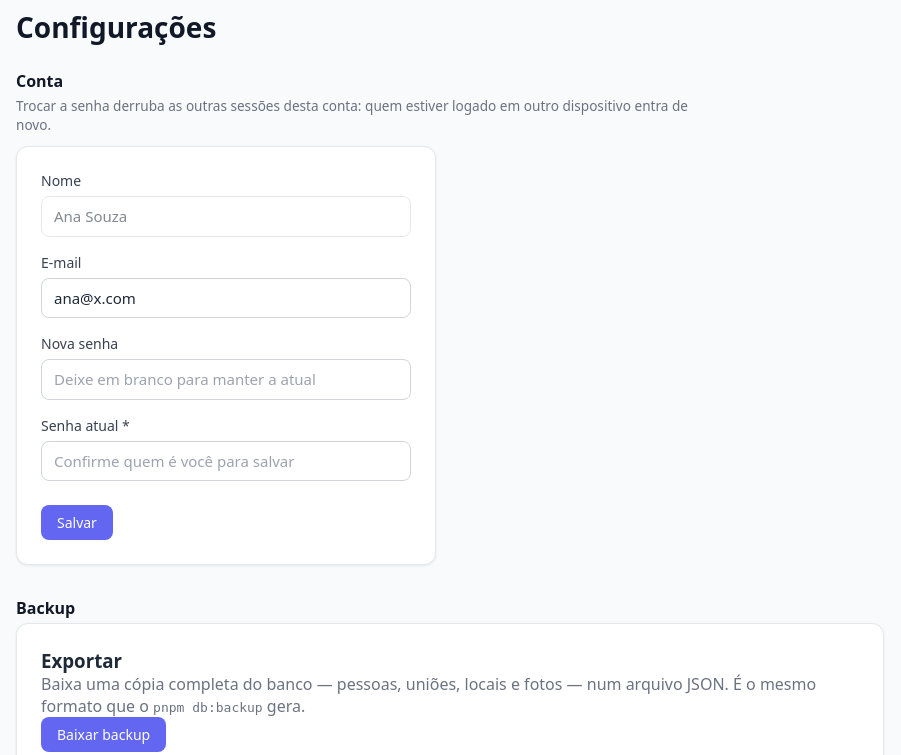
Test: Configurações — conta › senha nova sem confirmação igual não envia nada
expect the field showing "ana@x.com" is shown: met, box [41,278,411,318]
In the password field labelled "Nova senha": (226, 379) [41,359,411,400], type "senhanova123"
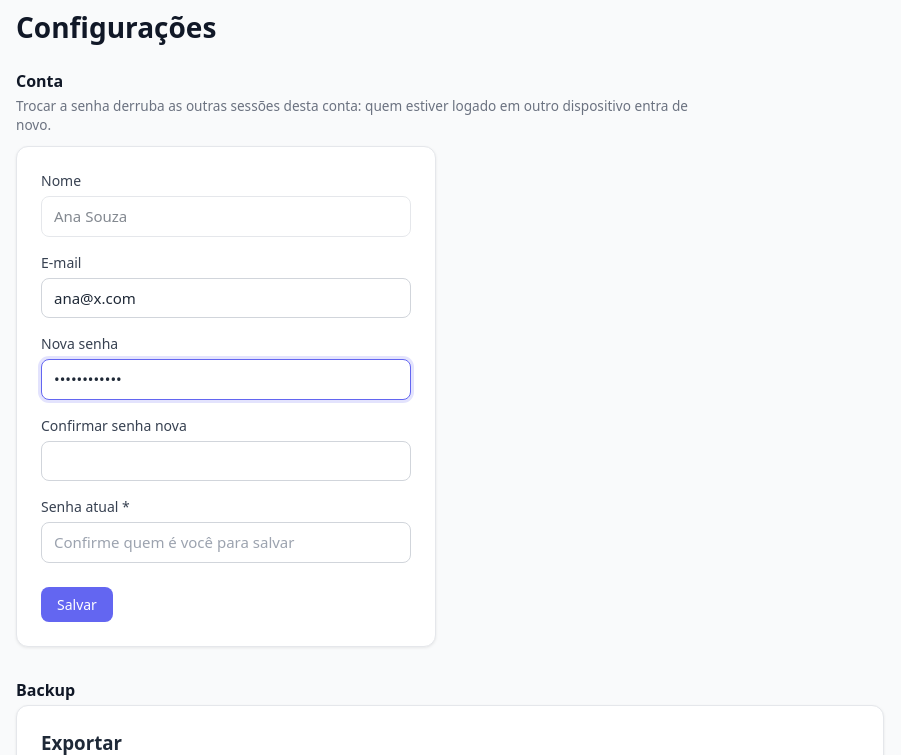
In the password field labelled "Confirmar senha nova": (226, 461) [41,440,411,481], type "diferente"
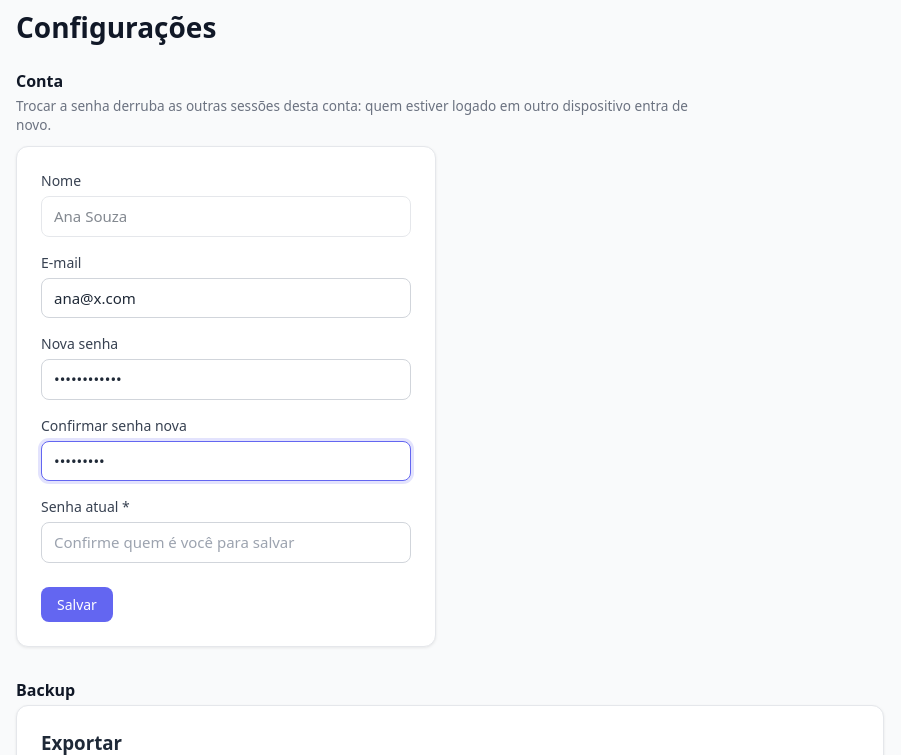
In the password field labelled "Senha atual *": (226, 542) [41,522,411,562], type "senha1234"
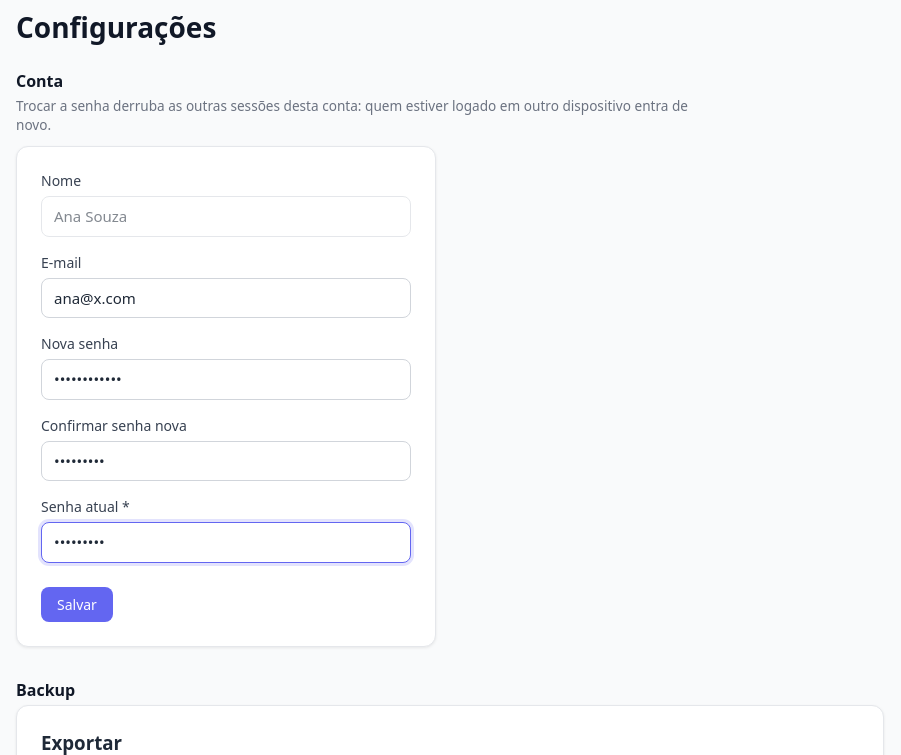
Click the button "Salvar": click(77, 604) [41,586,113,622]
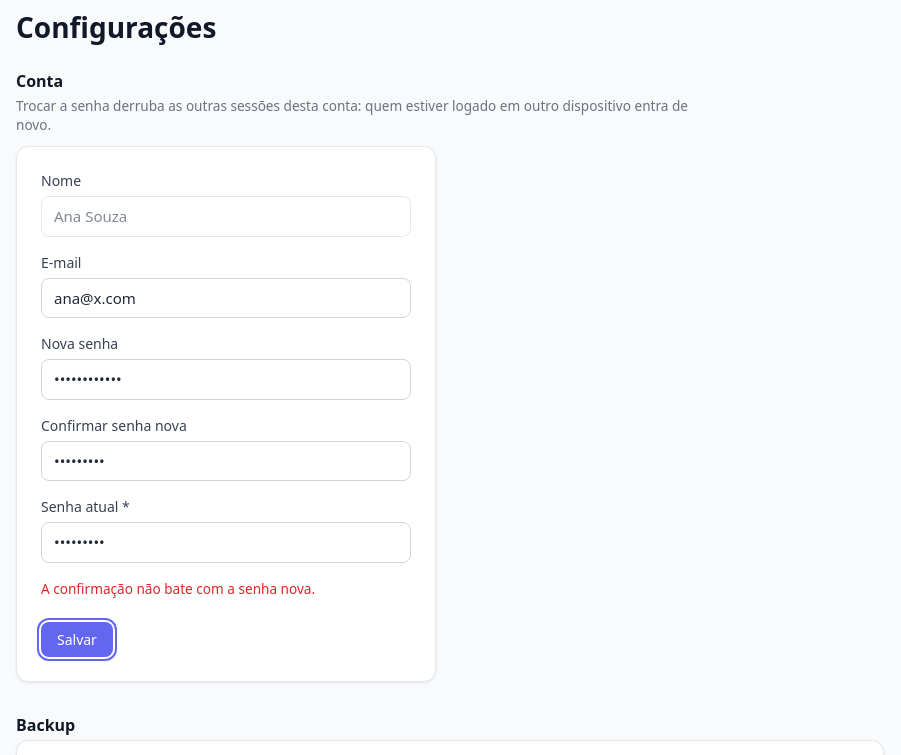
expect the text "A confirmação não bate com a senha nova." is shown: met, box [41,578,315,598]
